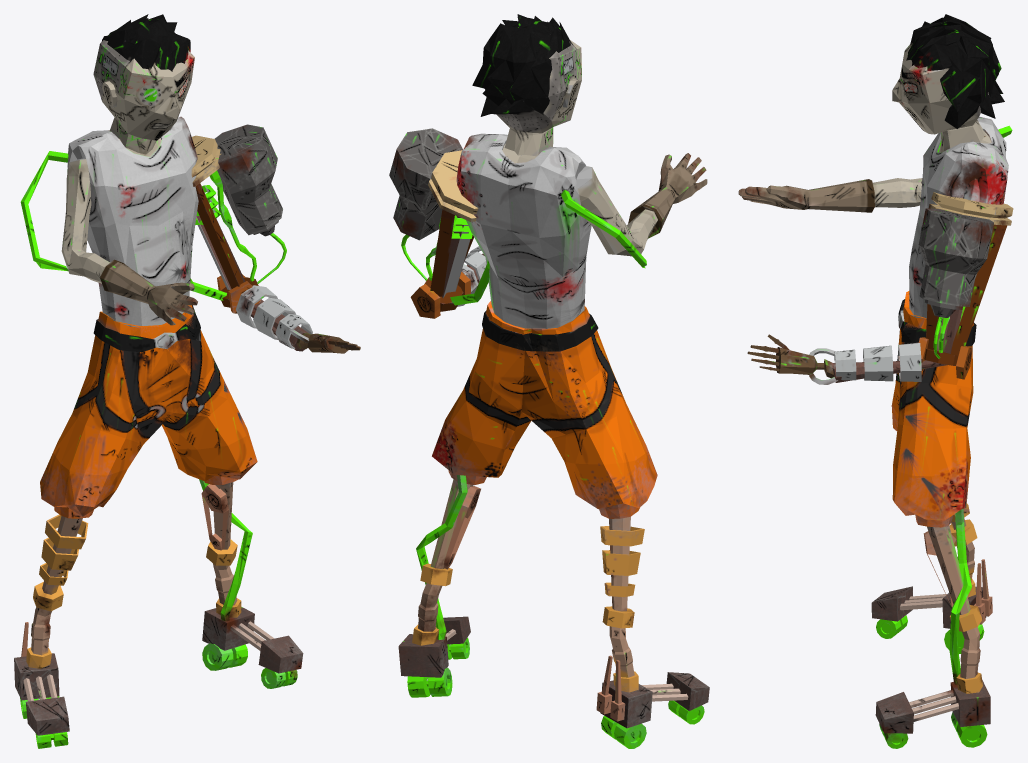
Rendered from CyborgFINALAnimation_000027.obj.
3 renders of one model, left to right at view 1: azimuth 30°, elevation 25°; view 2: azimuth 150°, elevation 25°; view 3: azimuth 270°, elevation 25°, orthographic. The views are drawn at different scales.
Visible parts, largest first — view 1: CyborgMesh_Cube.002; view 2: CyborgMesh_Cube.002; view 3: CyborgMesh_Cube.002.
Boxes of the visible parts, x1,y1,x2,y2 form: CyborgMesh_Cube.002: (14, 14, 360, 748); CyborgMesh_Cube.002: (389, 14, 709, 748); CyborgMesh_Cube.002: (738, 14, 1013, 748).
Bounding box in the file's own units: 4.1 × 9.64 × 3.55.
